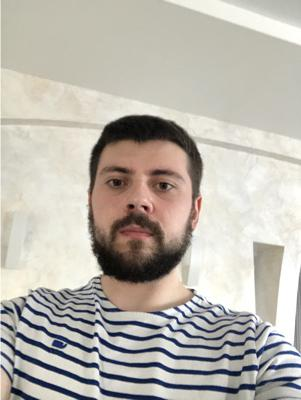without_mask: (88, 159, 187, 286)
